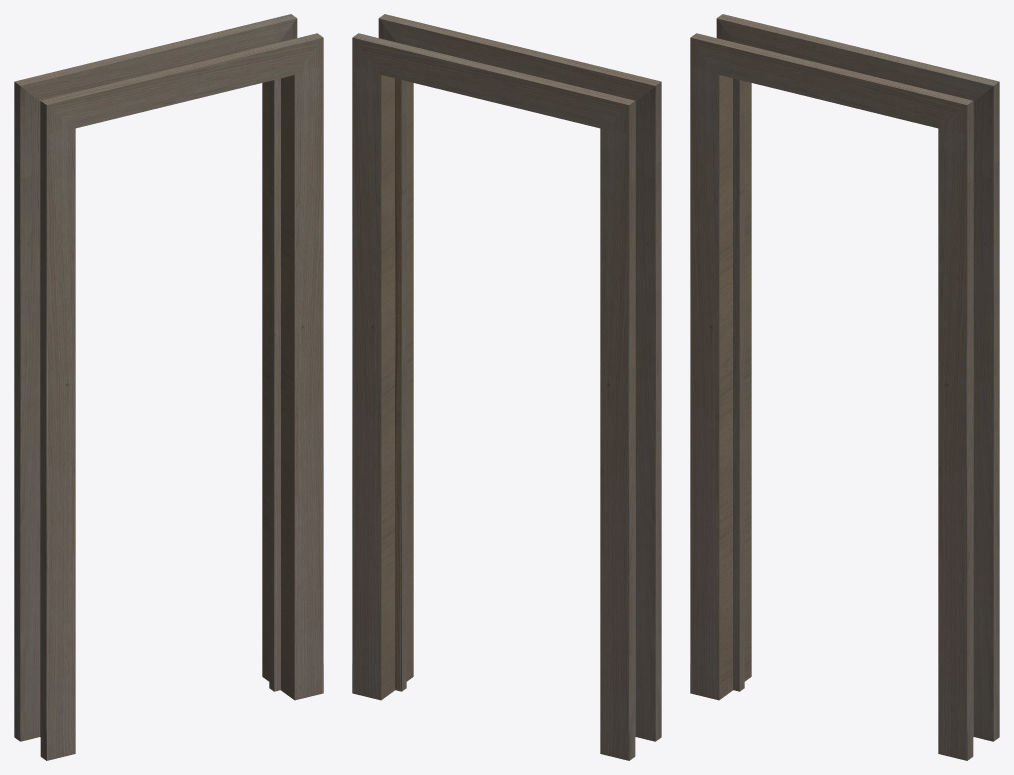
File: 51_ATHENS_Frame.glb
The picture shows the model from 3 angles, left to right: view 1: azimuth 30°, elevation 25°; view 2: azimuth 150°, elevation 25°; view 3: azimuth 330°, elevation 25°; orthographic projection.
Visible parts, largest first — view 1: 51_ATHENS_Frame; view 2: 51_ATHENS_Frame; view 3: 51_ATHENS_Frame.
Part boxes in pixels (x1,y1,x2,y2): 51_ATHENS_Frame: [14, 14, 323, 760]; 51_ATHENS_Frame: [352, 14, 661, 760]; 51_ATHENS_Frame: [690, 14, 999, 760].
Size of the model in its own units: 1.04 by 2.36 by 0.2105.
1 material, 1 textured.
